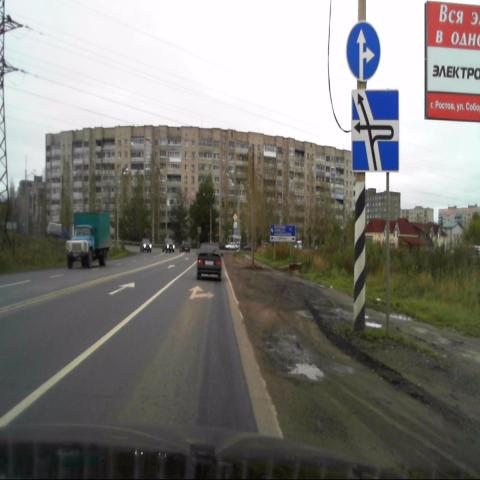4_1_4: (346, 22, 380, 82)
